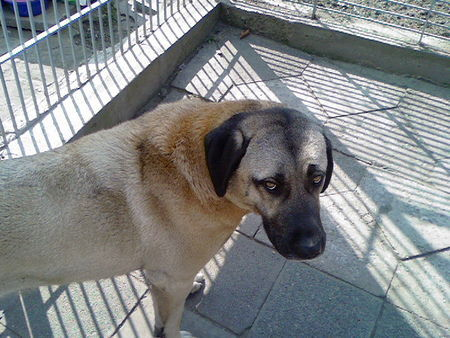kangal: (0, 97, 333, 336)
